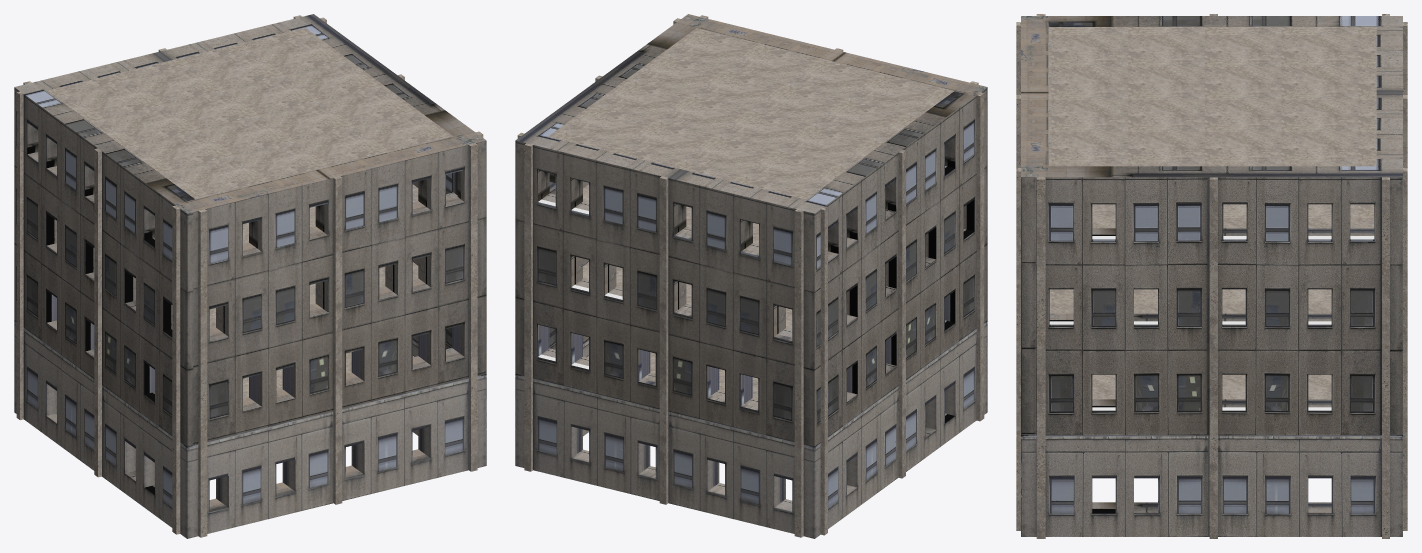
The model's file is BagSS01mid_500.fbx.
The picture shows the model from 3 angles, left to right: view 1: azimuth 30°, elevation 25°; view 2: azimuth 150°, elevation 25°; view 3: azimuth 270°, elevation 25°; orthographic projection. The views are drawn at different scales.
Parts seen in each view (by area): view 1: ma_B500, ma_A500; view 2: ma_B500, ma_A500; view 3: ma_B500, ma_A500.
Boxes of the visible parts, x1,y1,x2,y2 form: ma_B500: (14, 14, 486, 538); ma_A500: (16, 15, 483, 537); ma_B500: (515, 14, 987, 538); ma_A500: (517, 15, 984, 537); ma_B500: (1021, 16, 1402, 536); ma_A500: (1016, 14, 1407, 538).
Bounding box in the file's own units: 17.99 × 18.22 × 17.99.
